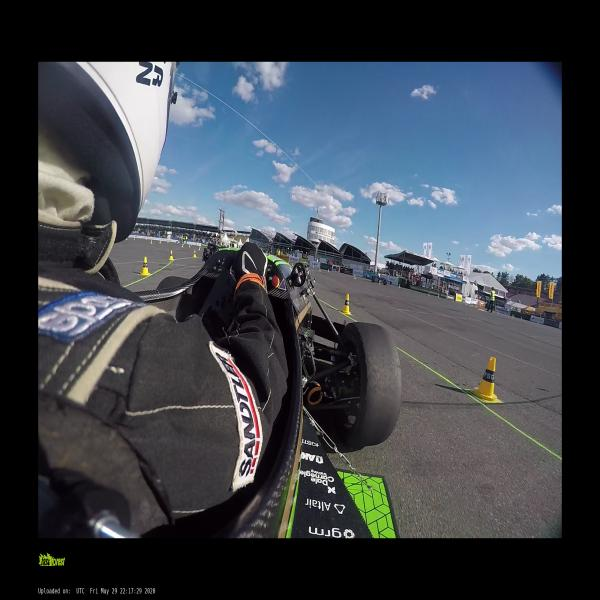yellow_cone: (474, 357, 499, 402), (340, 294, 352, 315), (139, 256, 150, 276), (169, 250, 174, 260), (192, 250, 197, 258), (354, 274, 356, 280), (319, 267, 321, 272)
